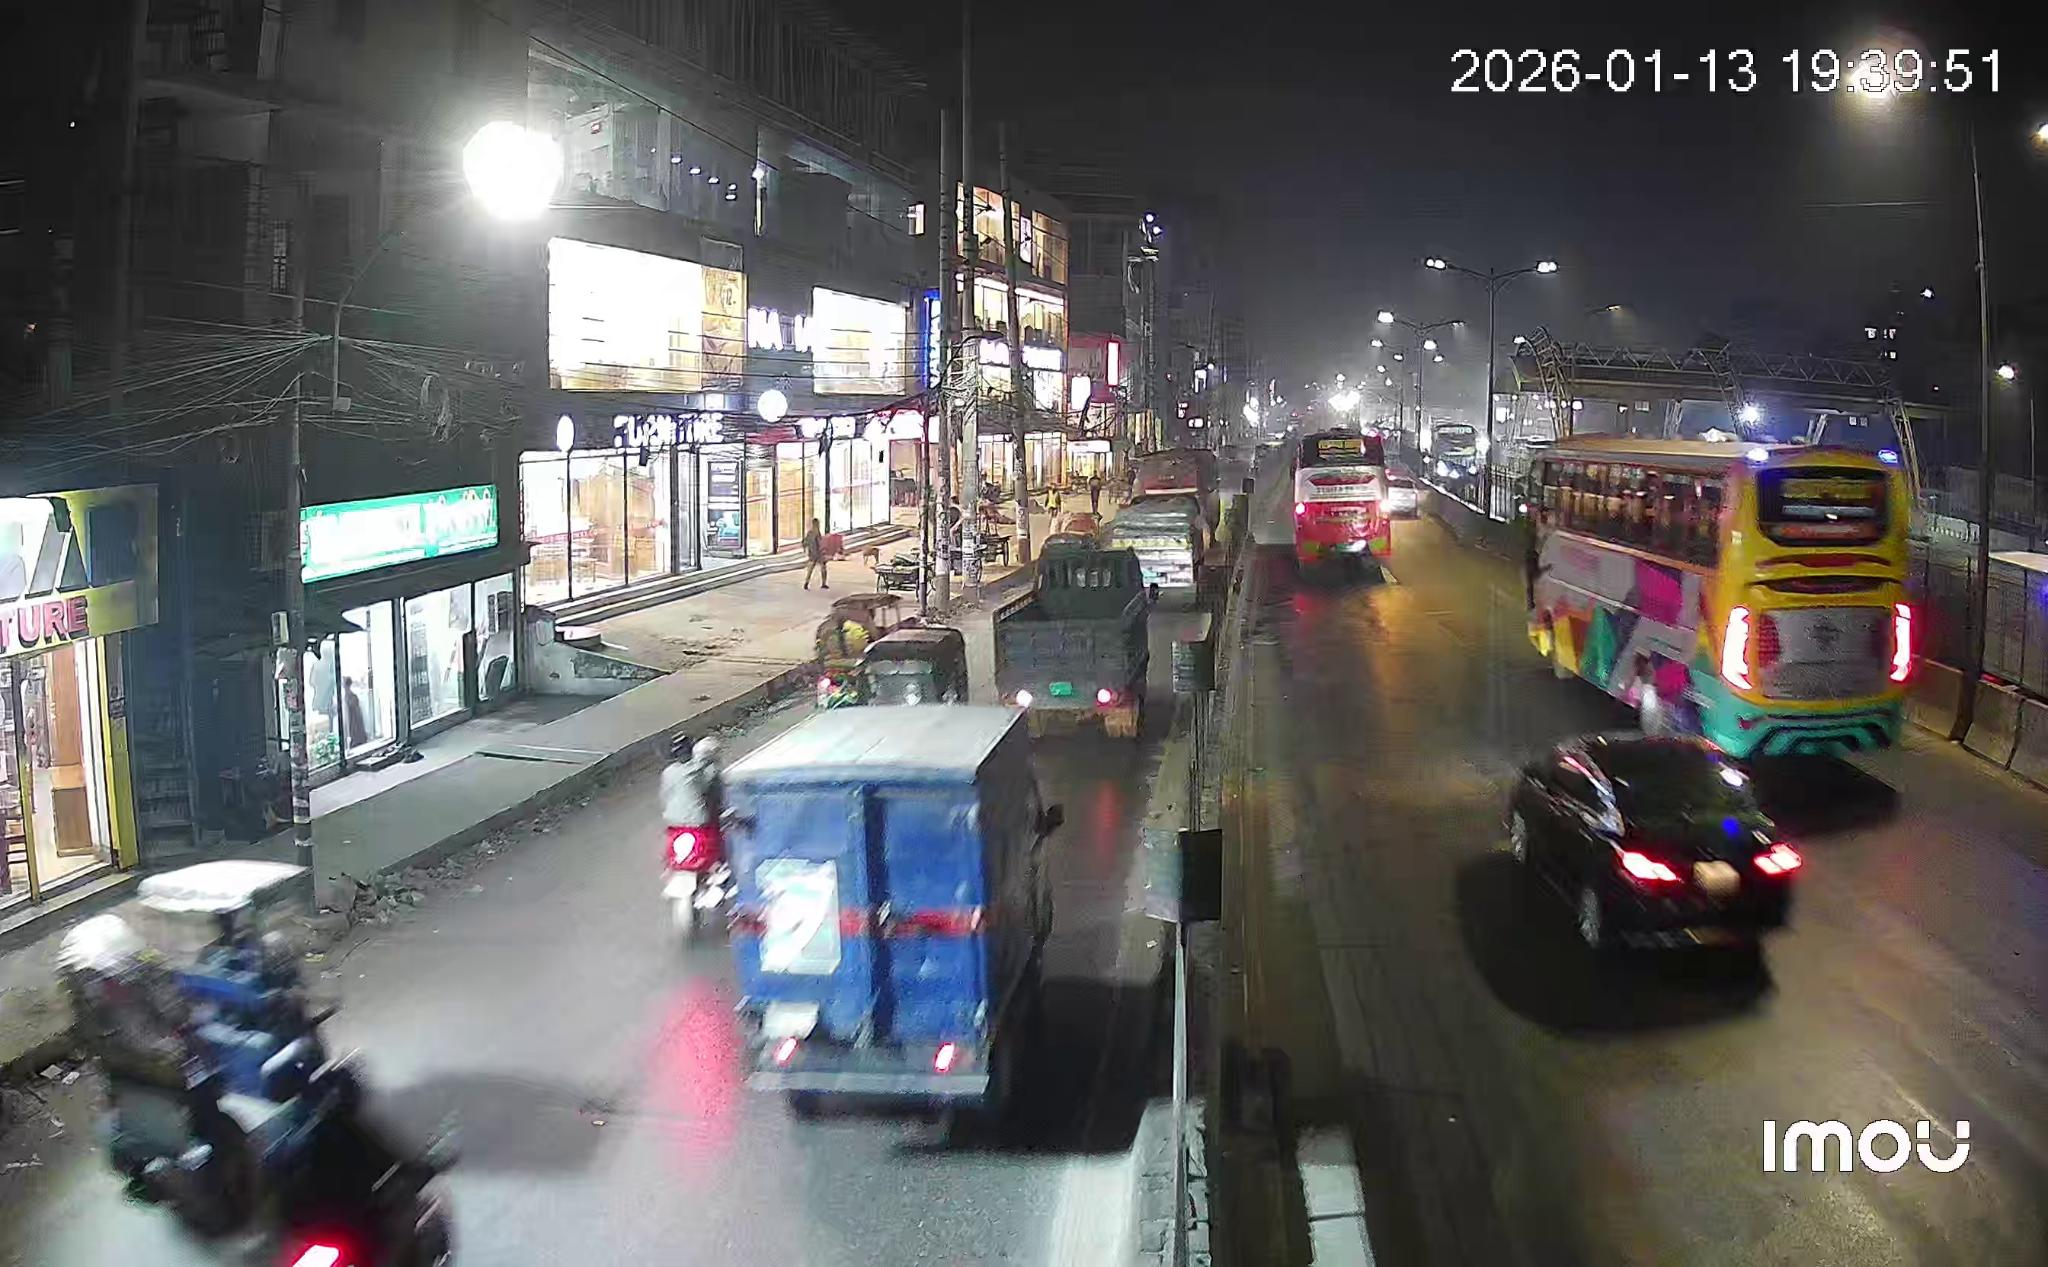Bus: (1526, 436, 1913, 756), (1292, 430, 1396, 566)
Private-Sedan Car: (1502, 732, 1804, 951)
Truck: (729, 497, 1213, 1102)
